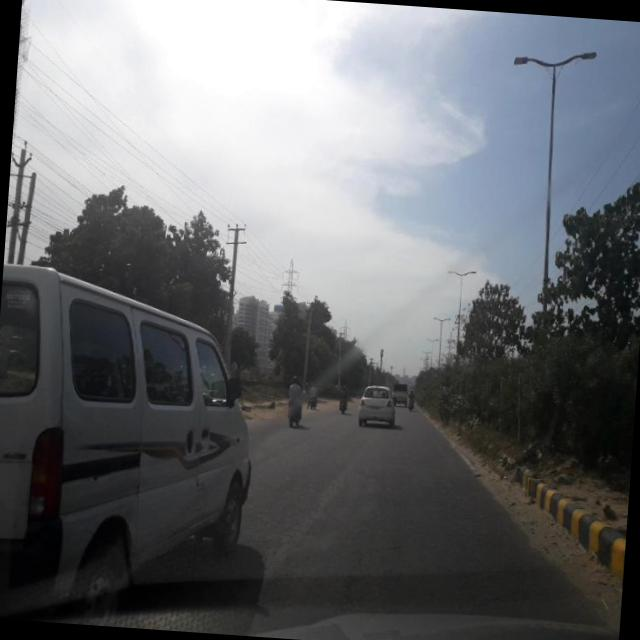crack: (248, 434, 534, 629)
